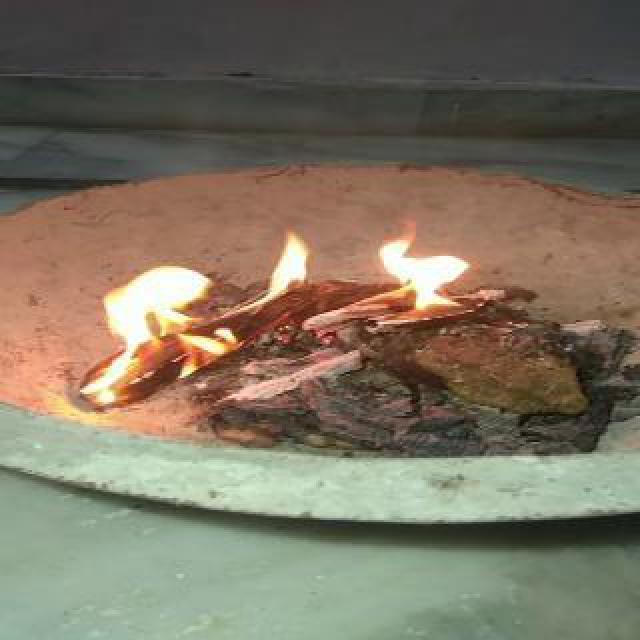Fire: (82, 228, 478, 412)
